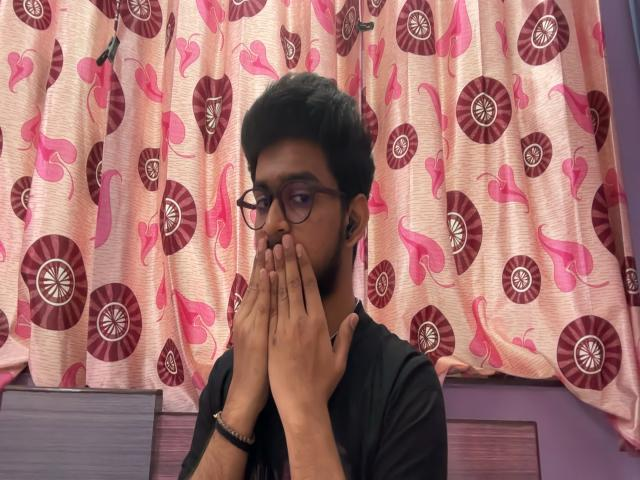Thanks: (220, 232, 364, 411)
